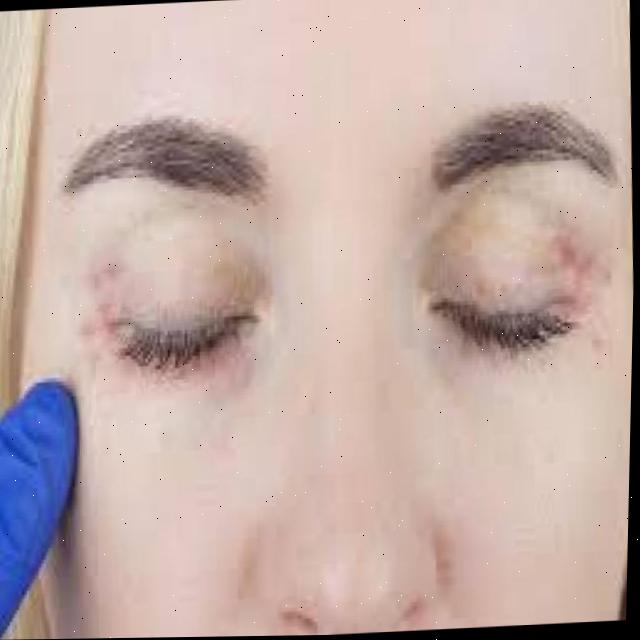Rosacea: (71, 266, 136, 355), (564, 235, 614, 300)
